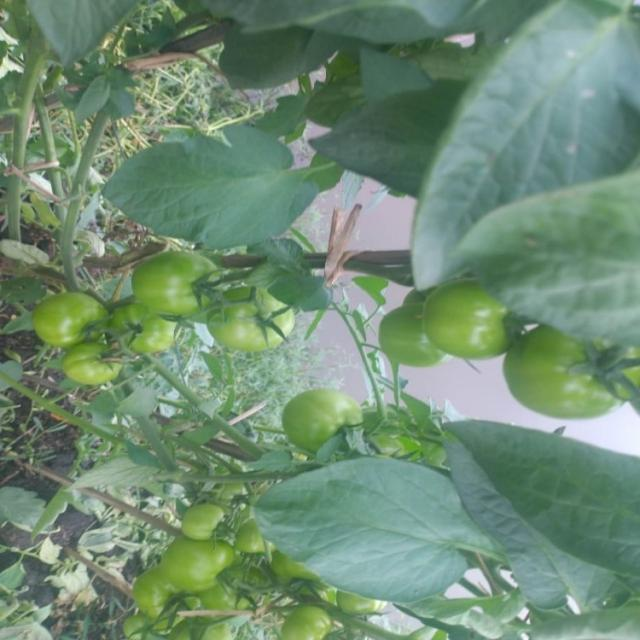tomato: (501, 324, 640, 423), (128, 244, 248, 327), (424, 285, 525, 362), (209, 290, 312, 358), (370, 302, 449, 375), (29, 290, 120, 353), (156, 526, 234, 596), (283, 381, 366, 443), (126, 565, 193, 630), (51, 343, 132, 396), (208, 577, 287, 631), (115, 299, 185, 351), (230, 510, 272, 559), (284, 595, 326, 640), (181, 495, 226, 534), (114, 606, 162, 640), (218, 471, 253, 511)
